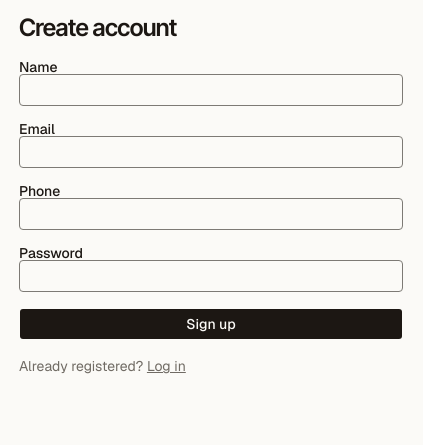
Test: RegisterForm › surfaces the 409 duplicate-email message inline
Type "Dupe" into the field labelled "Name" at [211, 90], box x1=19 y1=74 x2=403 y2=106
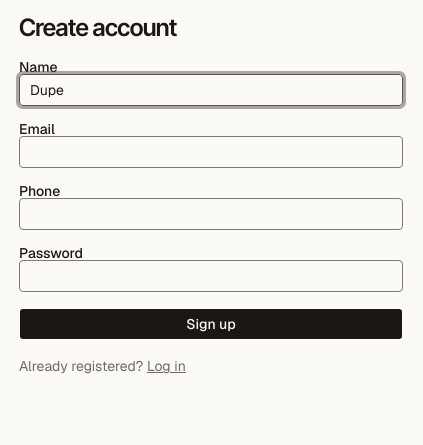
Type "dupe@nexus.test" into the field labelled "Email" at [211, 152], box x1=19 y1=136 x2=403 y2=168
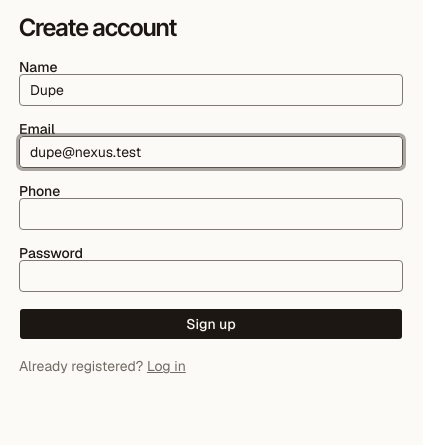
Type "555-0101" into the field labelled "Phone" at [211, 214], box x1=19 y1=198 x2=403 y2=230
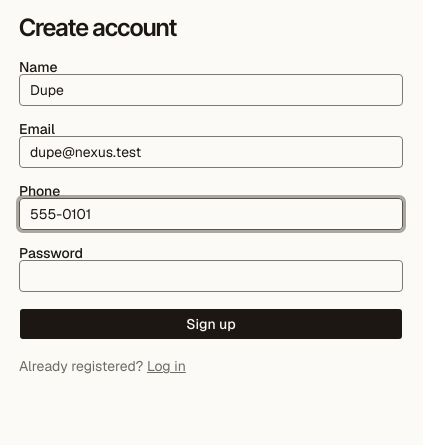
Type "correct-horse" into the password field labelled "Password" at [211, 276], box x1=19 y1=260 x2=403 y2=292
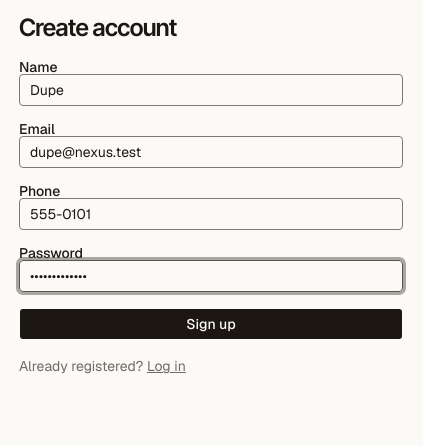
Click the button "Sign up" at [211, 324], box x1=19 y1=308 x2=403 y2=340
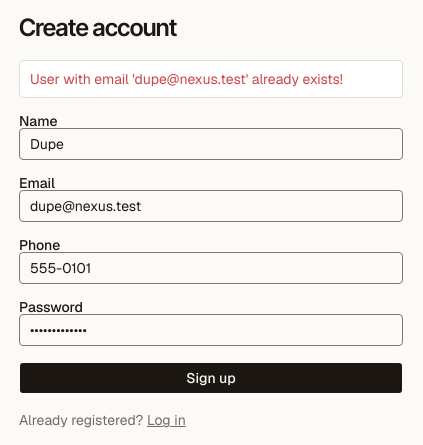
Now the text "User with email 'dupe@nexus.test' already exists!" is shown, box x1=30 y1=69 x2=392 y2=89
